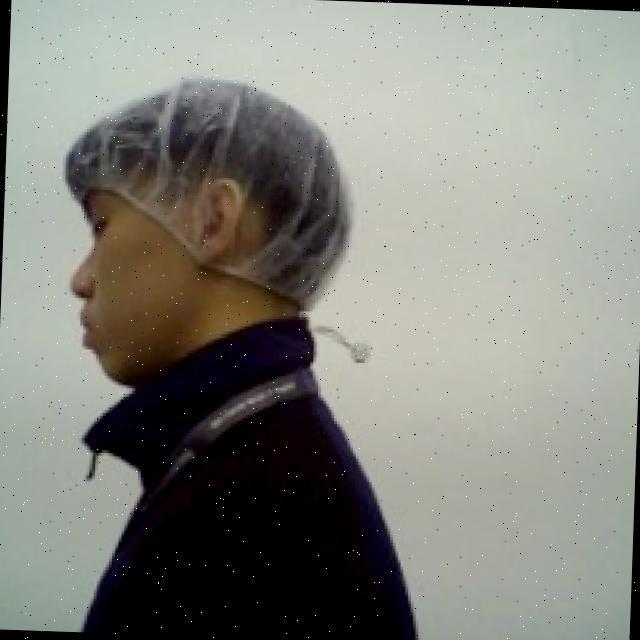gloves: (52, 58, 361, 320)
no_hairnet: (54, 172, 280, 394)
